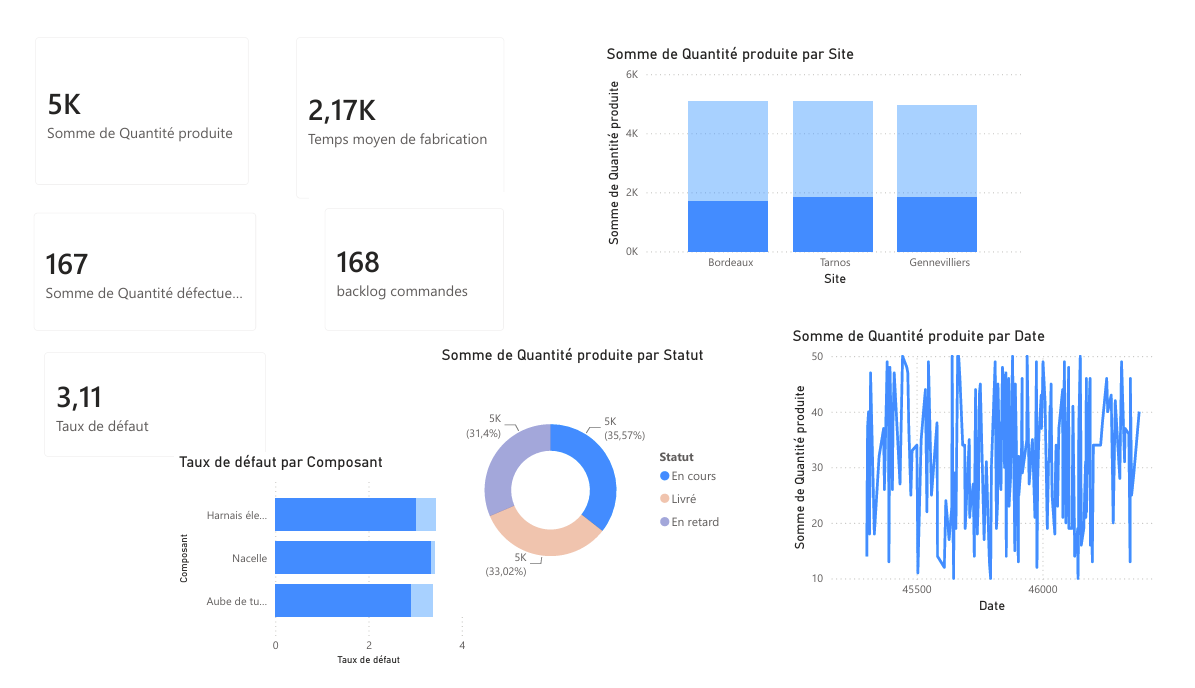

This screenshot's page, from the dashboard's own definition file:
{"tool":"powerbi","page":{"name":"Page 1","canvas":[1280,720],"ordinal":0},"visuals":[{"type":"cardVisual","fields":{"Data":["Sum(Sheet1.Quantité produite)"]},"box":[9.7,0,271.9,261],"z":0},{"type":"cardVisual","fields":{"Data":["Sum(Sheet1.Quantité défectueuse)"]},"box":[10,290,231.7,165],"z":1000},{"type":"cardVisual","fields":{"Data":["Sheet1.Taux de défaut"]},"box":[10,570,280,150],"z":2000},{"type":"cardVisual","fields":{"Data":["Sheet1.Temps moyen de fabrication"]},"box":[300,0,280,280],"z":3000},{"type":"cardVisual","fields":{"Data":["Sheet1.backlog commandes"]},"box":[300,290,191.7,170],"z":4000},{"type":"clusteredColumnChart","fields":{"Category":["Sheet1.Site"],"Y":["Sum(Sheet1.Quantité produite)"]},"box":[565.5,26.6,472.5,273.1],"z":4001},{"type":"barChart","fields":{"Category":["Sheet1.Composant"],"Y":["Sheet1.Taux de défaut"]},"box":[281.7,485,288.3,220],"z":4002},{"type":"donutChart","fields":{"Category":["Sheet1.Statut"],"Y":["Sum(Sheet1.Quantité produite)"]},"box":[937.7,299.7,313,309.3],"z":4003},{"type":"lineChart","fields":{"Category":["Sheet1.Date"],"Y":["Sum(Sheet1.Quantité produite)"]},"box":[628.3,346.7,310,315],"z":4004}]}

Visuals, with their boxes in screenshot pixels (x1, y1, x2, y2), scaled from the page's 1280x720 canvas onto the 1195x688 screenshot:
cardVisual - Sum(Sheet1.Quantité produite): crop(9, 0, 263, 249)
cardVisual - Sum(Sheet1.Quantité défectueuse): crop(9, 277, 226, 435)
cardVisual - Sheet1.Taux de défaut: crop(9, 545, 271, 687)
cardVisual - Sheet1.Temps moyen de fabrication: crop(280, 0, 541, 268)
cardVisual - Sheet1.backlog commandes: crop(280, 277, 459, 440)
clusteredColumnChart - Sheet1.Site x Sum(Sheet1.Quantité produite): crop(528, 25, 969, 286)
barChart - Sheet1.Composant x Sheet1.Taux de défaut: crop(263, 463, 532, 674)
donutChart - Sheet1.Statut x Sum(Sheet1.Quantité produite): crop(875, 286, 1168, 582)
lineChart - Sheet1.Date x Sum(Sheet1.Quantité produite): crop(587, 331, 876, 632)
